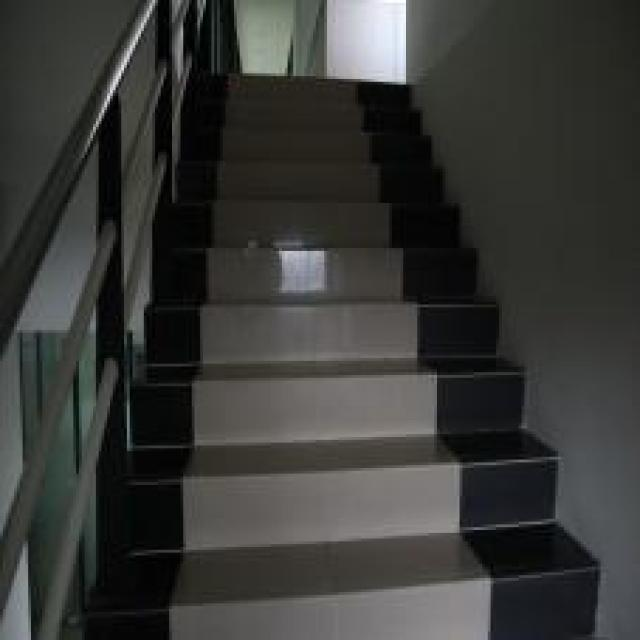upstair: (215, 86, 444, 638)
